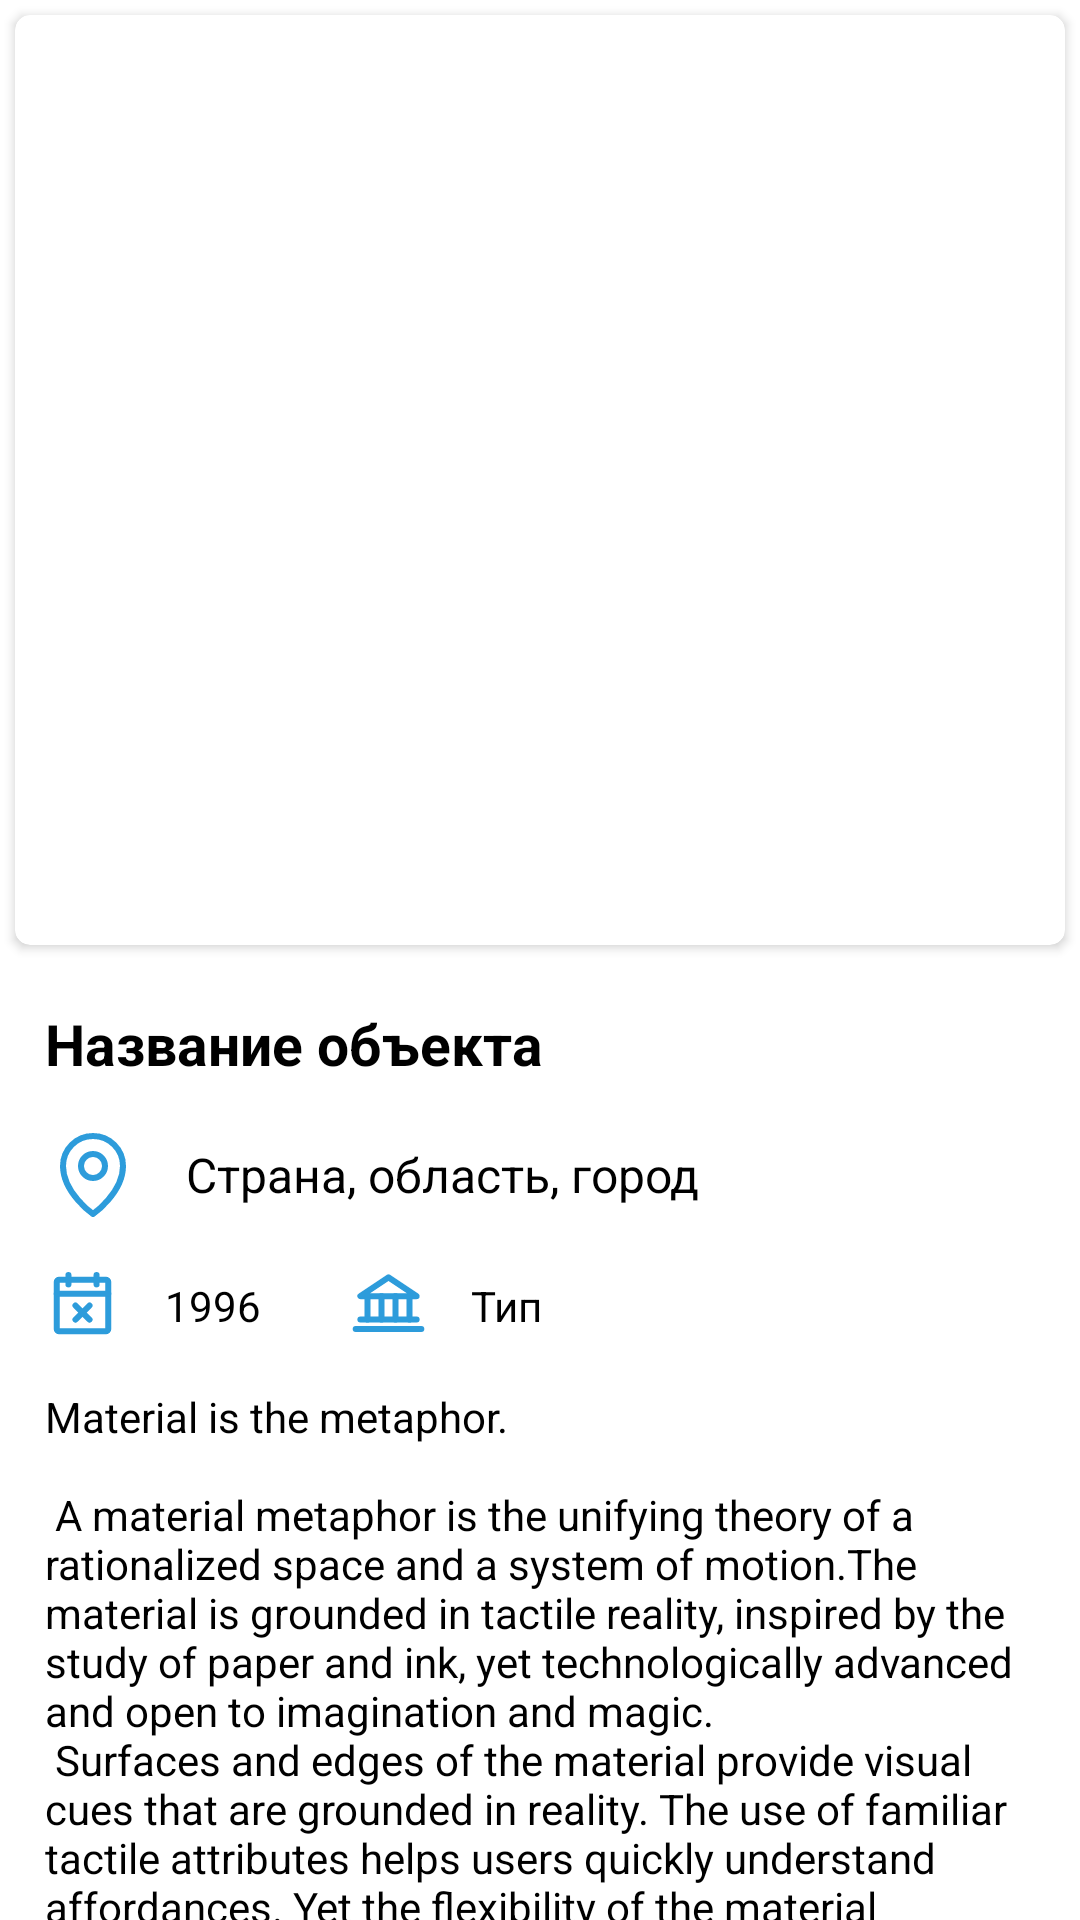

Named icons in this screenshot (1080px x 1920px) and their bounding boxes, (x1, y1, x2, y2):
details building: (352, 1274, 425, 1332)
details calendar: (53, 1272, 112, 1335)
map pin: (60, 1133, 126, 1217)
